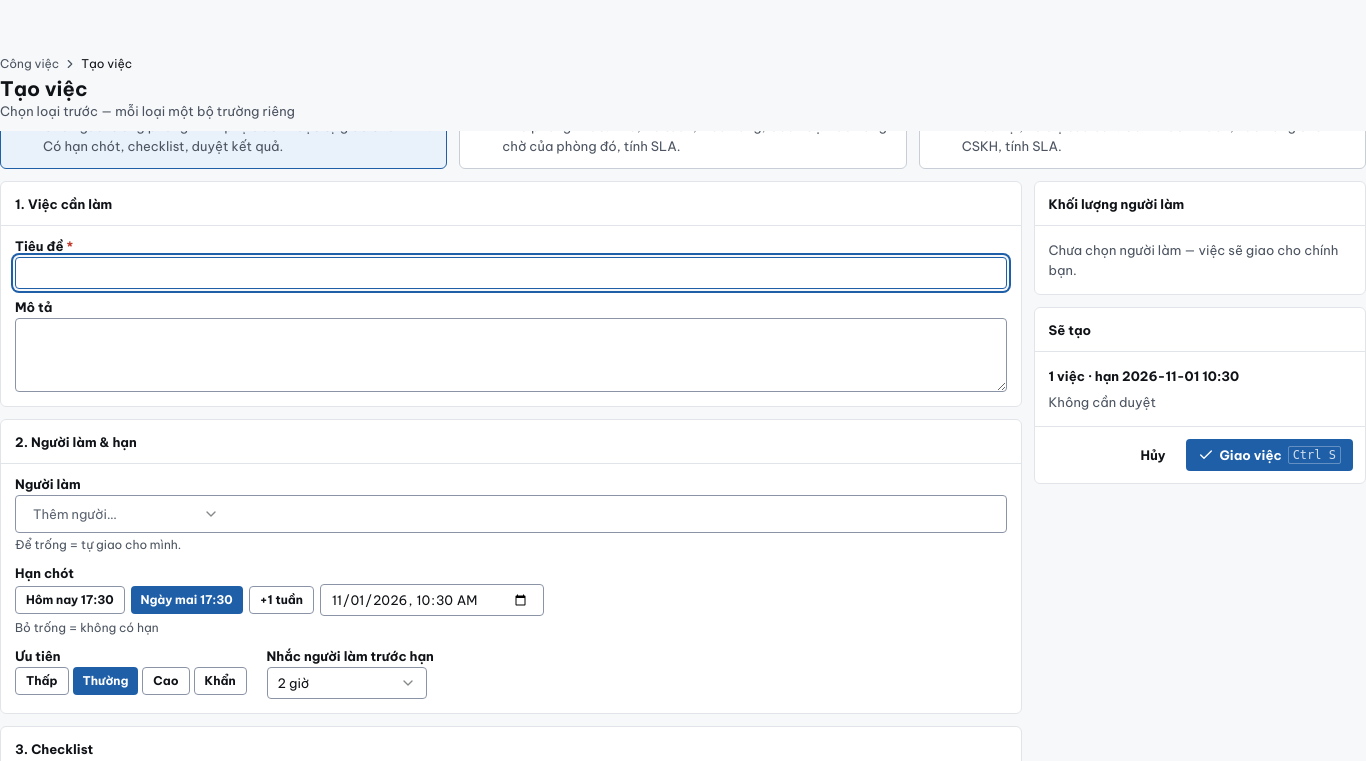
Test case: Tạo việc › thiếu tiêu đề → báo lỗi cạnh ô, không gửi
The width and height of the screenshot is (1366, 761).
Click the button "Giao việc Ctrl S": (1269, 455) [1186,439,1353,471]
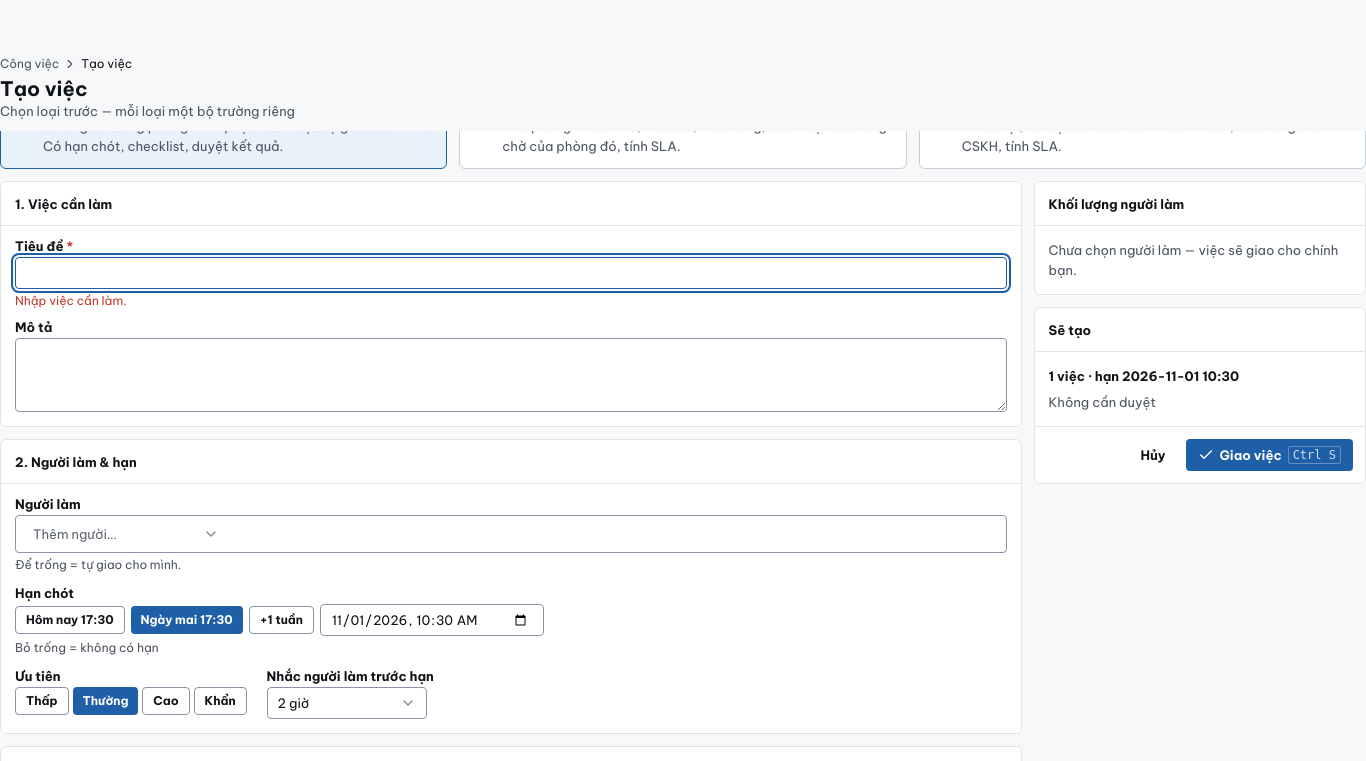
Check: the text "Nhập việc cần làm." is shown, box [15,293,127,308]
